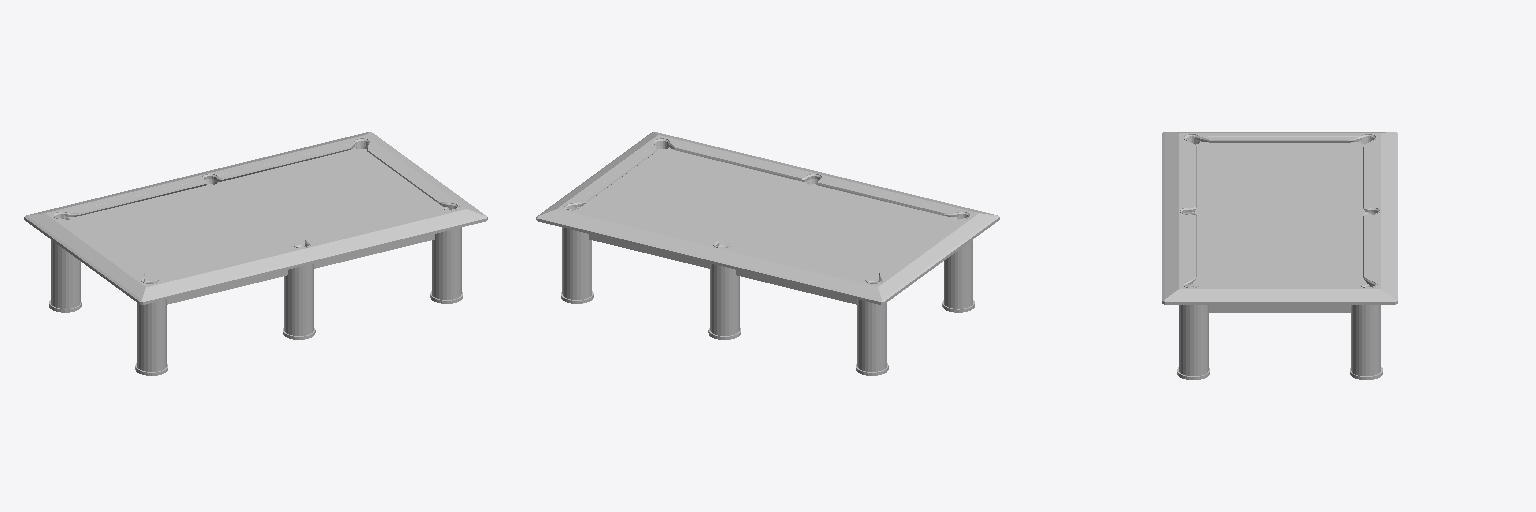
File: TournamentTable.obj
The picture shows the model from 3 angles: view 1: azimuth 30°, elevation 25°; view 2: azimuth 150°, elevation 25°; view 3: azimuth 270°, elevation 25°; orthographic projection.
Bounding box in the file's own units: 3.39 × 0.8469 × 2.